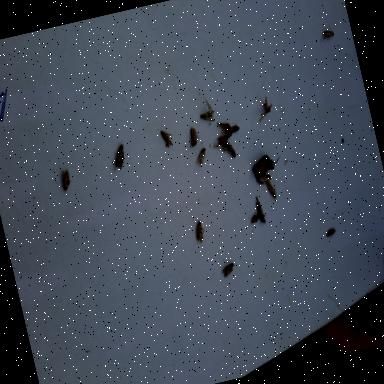pbw: (254, 196, 268, 225), (58, 168, 74, 192), (193, 220, 207, 244), (194, 148, 210, 166), (215, 131, 234, 146), (255, 172, 273, 187), (266, 180, 279, 200), (162, 128, 174, 148), (200, 110, 217, 124), (222, 262, 236, 278), (224, 141, 236, 159), (217, 120, 232, 134), (320, 30, 335, 42), (224, 124, 240, 134), (250, 213, 261, 224), (326, 228, 336, 236)
